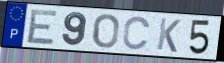5: (188, 19, 211, 56)
9: (60, 10, 88, 48)
C: (121, 15, 152, 51)
E: (25, 9, 60, 46)
K: (155, 17, 182, 54)
O: (92, 13, 120, 50)
